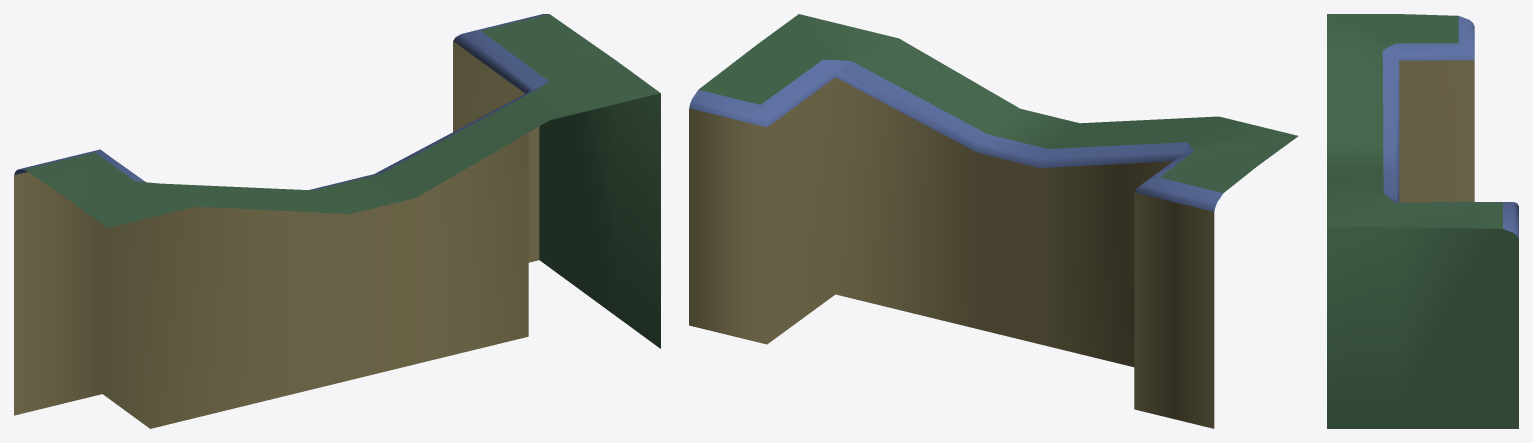
Rendered from Cuarta_PLat.fbx.
The picture shows the model from 3 angles, left to right: view 1: azimuth 30°, elevation 25°; view 2: azimuth 150°, elevation 25°; view 3: azimuth 270°, elevation 25°; orthographic projection. The views are drawn at different scales.
Visible parts, largest first — view 1: Cuarta_PLat, Ground10, Wall10; view 2: Cuarta_PLat, Ground10, Wall10; view 3: Ground10, Cuarta_PLat, Wall10.
Boxes of the visible parts, bbox=[...] form: Cuarta_PLat: bbox=[14, 41, 539, 428]; Ground10: bbox=[24, 14, 660, 348]; Wall10: bbox=[14, 14, 548, 190]; Cuarta_PLat: bbox=[689, 77, 1214, 428]; Ground10: bbox=[689, 14, 1298, 192]; Wall10: bbox=[689, 59, 1223, 211]; Ground10: bbox=[1327, 14, 1518, 428]; Cuarta_PLat: bbox=[1399, 60, 1474, 202]; Wall10: bbox=[1382, 16, 1518, 238].
Size of the model in its own units: 17890 by 7906 by 6802.
